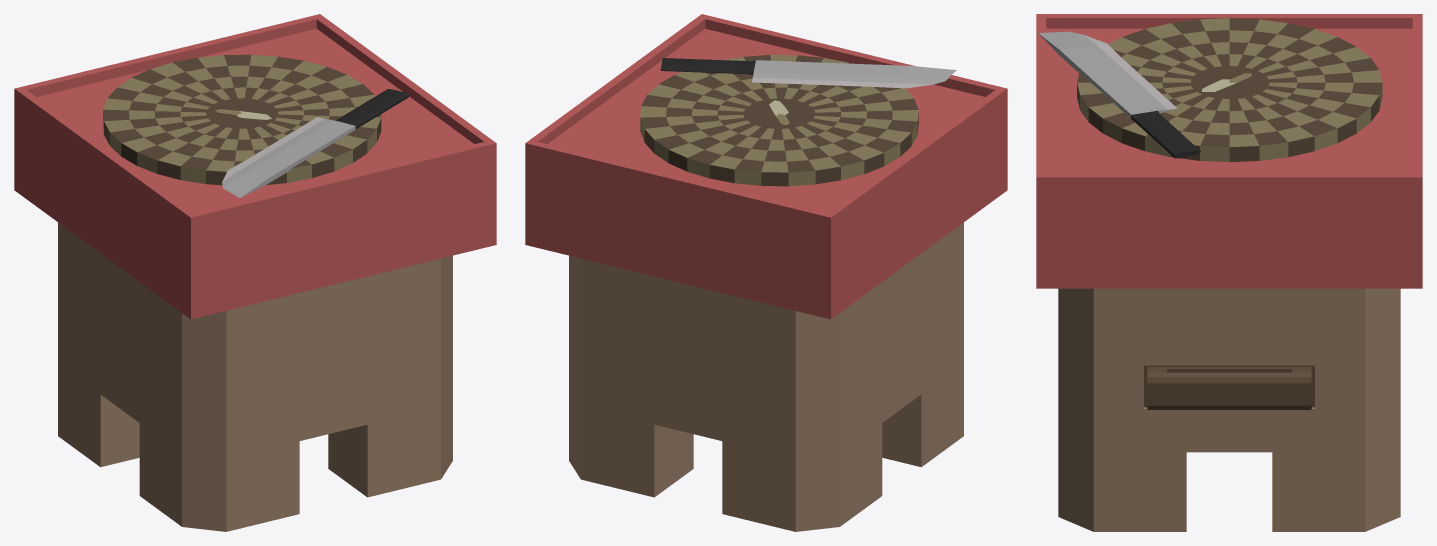
File: Chopping_Station_Interacted.fbx
3 renders of one model, left to right at view 1: azimuth 30°, elevation 25°; view 2: azimuth 150°, elevation 25°; view 3: azimuth 270°, elevation 25°, orthographic. The views are drawn at different scales.
Visible parts, largest first — view 1: Table, Cutting Board, Knife; view 2: Table, Cutting Board, Knife; view 3: Table, Cutting Board, Knife.
Part boxes in pixels (x1,y1,x2,y2): Table: [14, 14, 496, 531]; Cutting Board: [103, 54, 381, 185]; Knife: [222, 89, 408, 197]; Table: [525, 14, 1007, 531]; Cutting Board: [640, 55, 918, 186]; Knife: [660, 58, 956, 88]; Table: [1036, 14, 1422, 531]; Cutting Board: [1077, 18, 1382, 162]; Knife: [1038, 31, 1200, 158].
Size of the model in its own units: 199 by 212 by 199.
